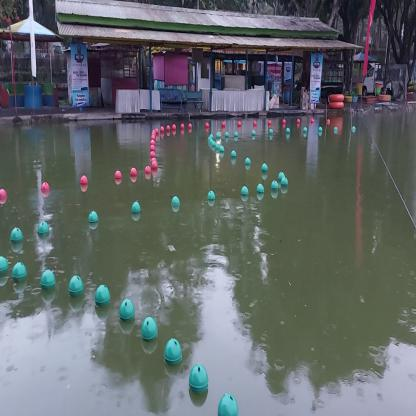green_buoy: (190, 366, 208, 396), (164, 340, 182, 366), (218, 394, 237, 416), (142, 318, 157, 343), (120, 299, 134, 318), (96, 286, 109, 303), (70, 276, 82, 292), (0, 255, 10, 274), (13, 263, 26, 277), (41, 269, 55, 282), (37, 220, 49, 235), (11, 227, 21, 243), (132, 201, 140, 212), (279, 173, 286, 185), (89, 212, 98, 221), (207, 190, 215, 200), (271, 180, 278, 191), (173, 196, 179, 208), (241, 186, 248, 196), (245, 157, 251, 165), (257, 184, 263, 192), (219, 145, 225, 152), (231, 150, 236, 158), (262, 162, 266, 171)
red_buoy: (0, 188, 8, 201), (129, 168, 136, 179), (114, 170, 121, 180), (80, 176, 87, 186), (43, 183, 49, 194), (144, 165, 150, 174)
